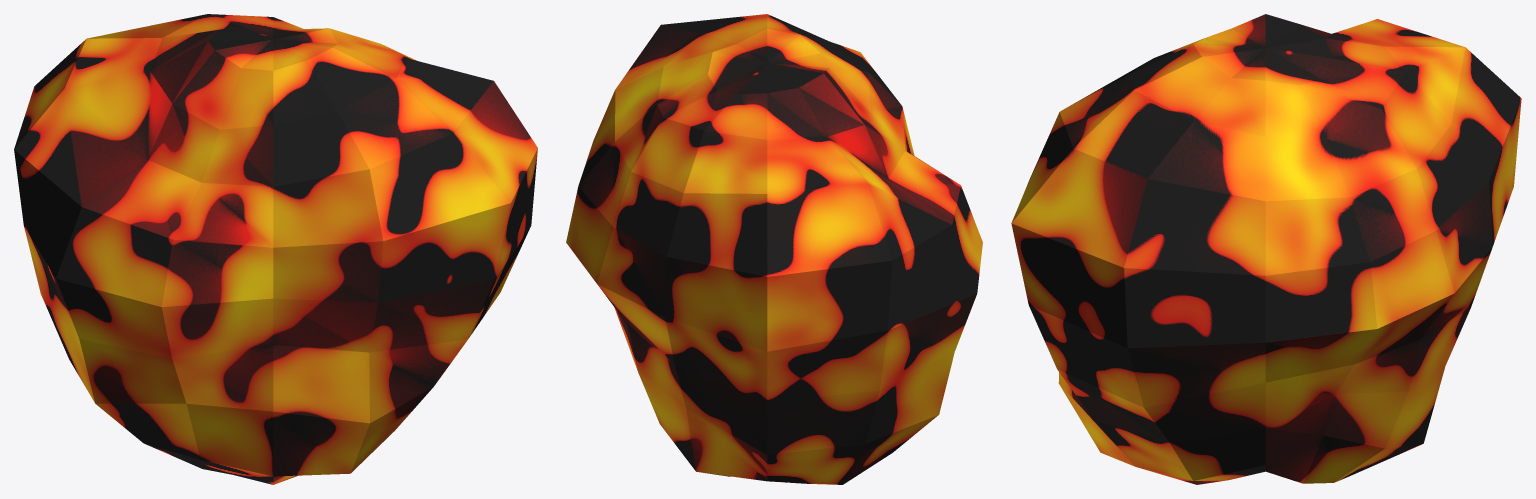
File: Lava rock.fbx
3 renders of one model, left to right at view 1: azimuth 30°, elevation 25°; view 2: azimuth 150°, elevation 25°; view 3: azimuth 270°, elevation 25°, orthographic. The views are drawn at different scales.
Visible parts, largest first — view 1: Sphere; view 2: Sphere; view 3: Sphere.
Part boxes in pixels (box(x1,y1,x2,y2)): Sphere: box(14, 14, 537, 484); Sphere: box(566, 14, 982, 484); Sphere: box(1011, 14, 1521, 484).
Size of the model in its own units: 207 by 200 by 206.
